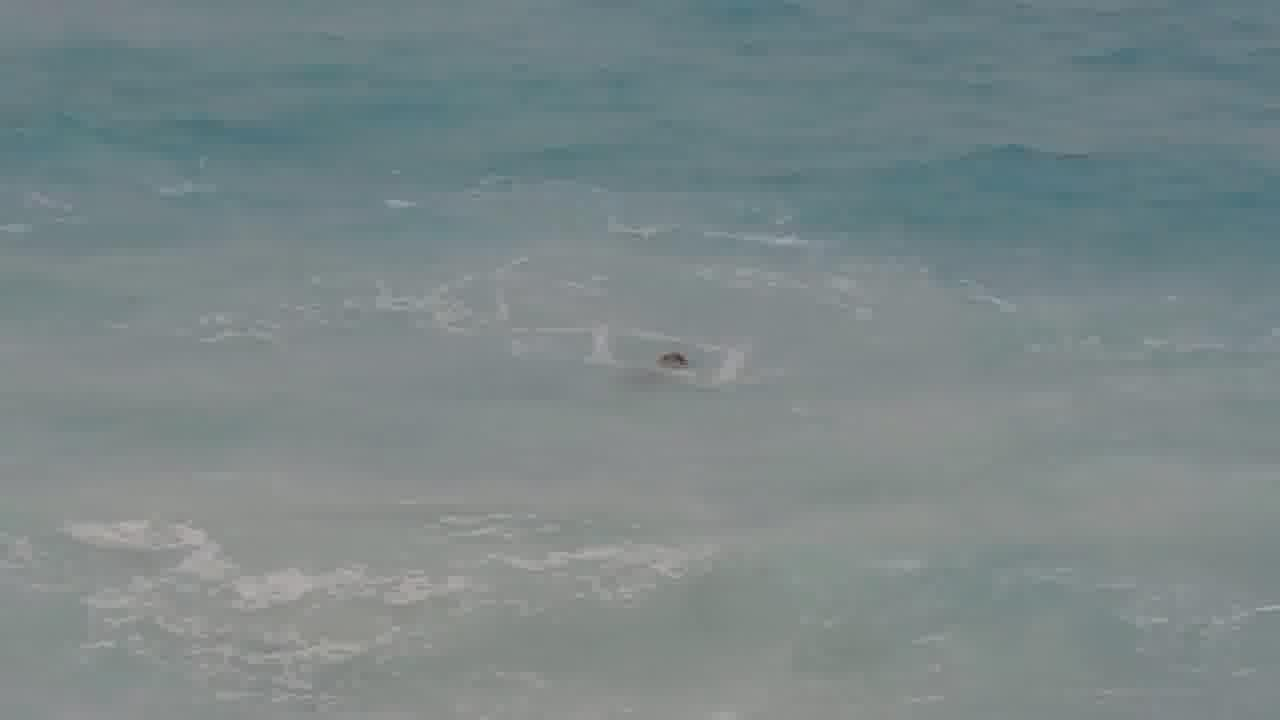human: (649, 341, 693, 384)
